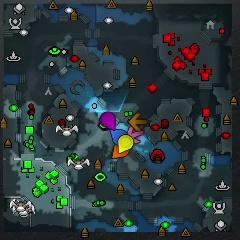p1: (108, 127, 127, 143)
p3: (99, 112, 117, 131)
p4: (117, 133, 133, 152)
p5: (113, 144, 129, 158)
x1: (125, 125, 144, 142)
x5: (127, 111, 147, 130)
